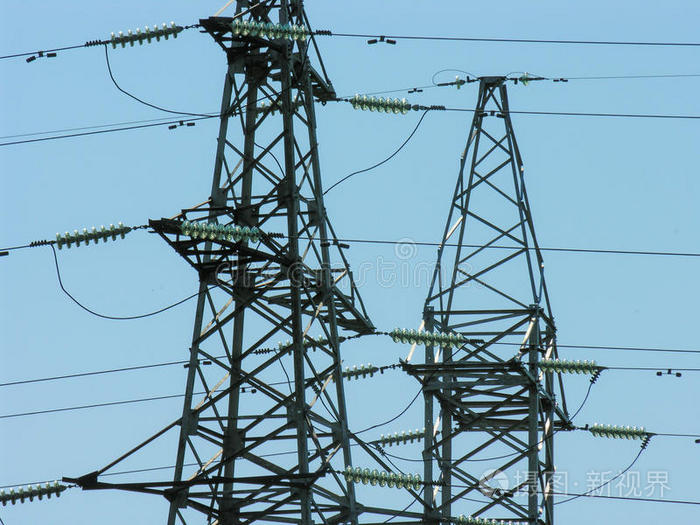insulator: (342, 465, 421, 494), (56, 221, 128, 251), (179, 220, 257, 247), (111, 21, 180, 51), (229, 18, 310, 41), (385, 325, 464, 348), (1, 479, 62, 507), (589, 419, 647, 441), (348, 95, 411, 114), (280, 334, 326, 357), (376, 428, 424, 449), (539, 357, 595, 372), (344, 364, 374, 382)
